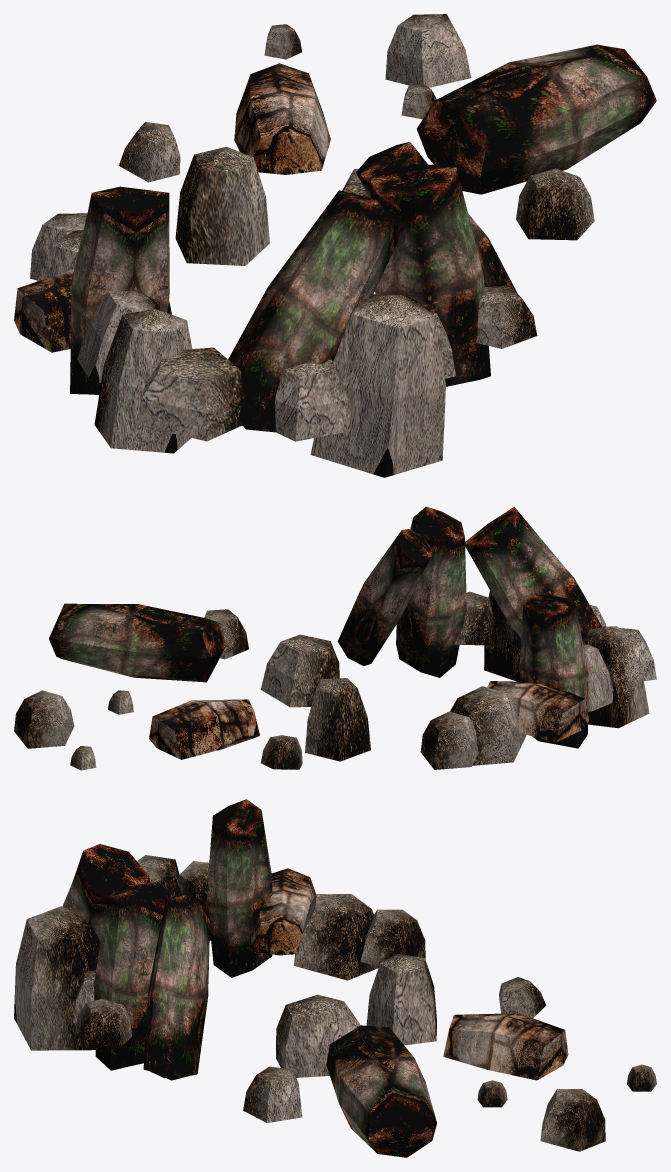
Rendered from thm_dant_large_rock_hut_dest_s01_l0.fbx.
The picture shows the model from 3 angles, top to bottom: view 1: azimuth 30°, elevation 25°; view 2: azimuth 150°, elevation 25°; view 3: azimuth 270°, elevation 25°; orthographic projection. The views are drawn at different scales.
Visible parts, largest first — view 1: mesh_node; view 2: mesh_node; view 3: mesh_node.
Part boxes in pixels (<box>): mesh_node: <box>14,14,656,477</box>; mesh_node: <box>14,506,656,770</box>; mesh_node: <box>14,799,656,1157</box>.
Size of the model in its own units: 19.35 by 6.43 by 19.92.
